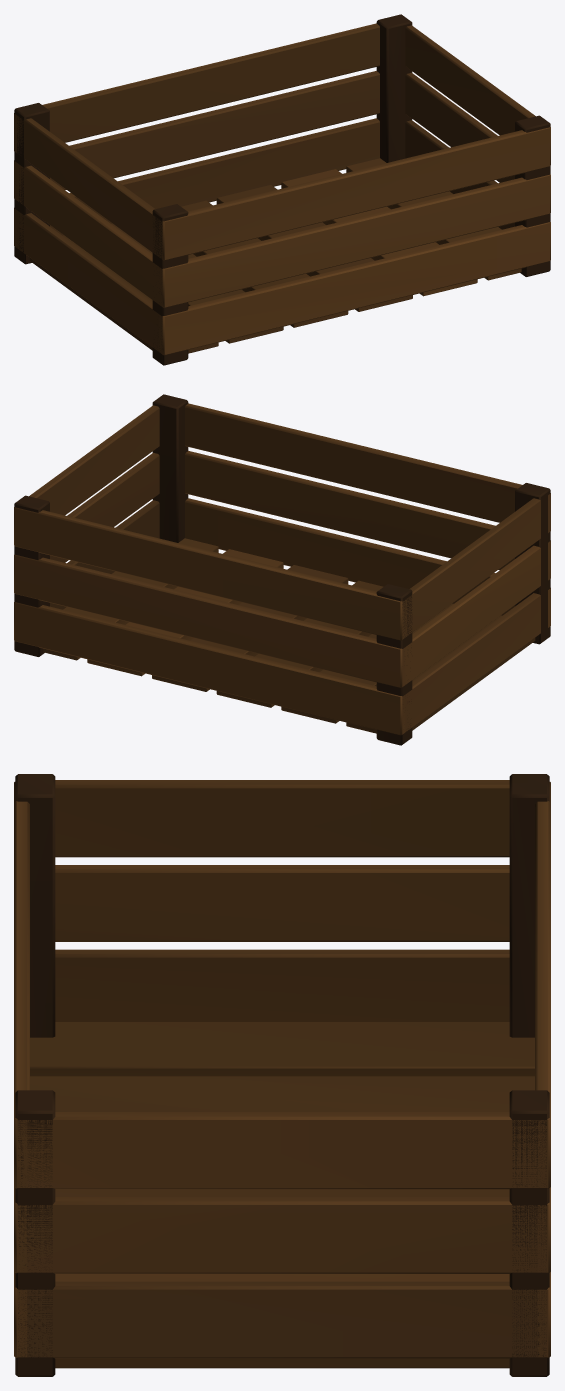
The model's file is mkt-produce-crate.glb.
3 renders of one model, top to bottom at view 1: azimuth 30°, elevation 25°; view 2: azimuth 150°, elevation 25°; view 3: azimuth 270°, elevation 25°, orthographic. The views are drawn at different scales.
Visible parts, largest first — view 1: crate__wood; view 2: crate__wood; view 3: crate__wood.
Part boxes in pixels (x1,y1,x2,y2): crate__wood: (14,14,550,365); crate__wood: (14,394,550,745); crate__wood: (14,774,550,1376).
Size of the model in its own units: 0.6 by 0.22 by 0.402.
